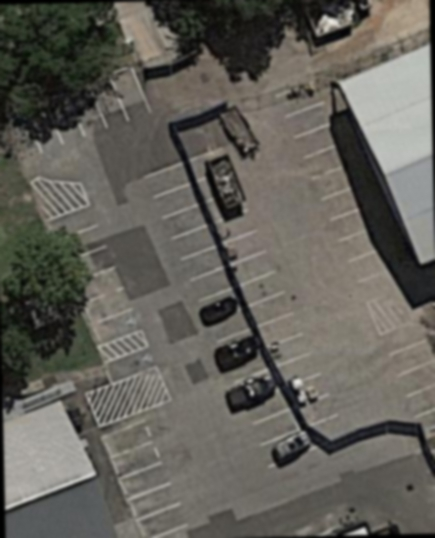parkingspot: (140, 158, 343, 470), (271, 77, 405, 287), (211, 206, 326, 387), (44, 201, 146, 348), (20, 64, 155, 157), (98, 414, 194, 538), (377, 316, 435, 421), (102, 343, 162, 385), (301, 423, 304, 426)
